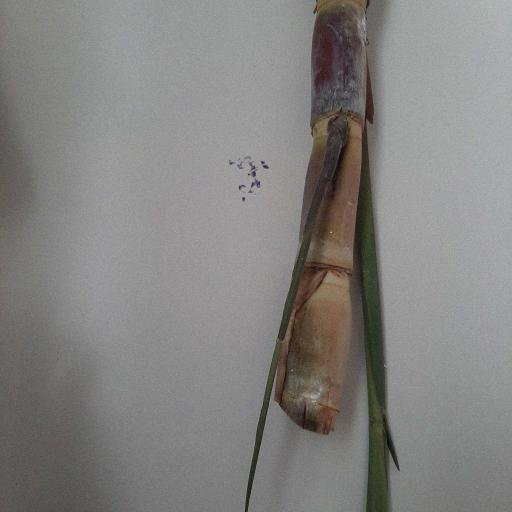Sprouted_Bud: (322, 115, 348, 174)
